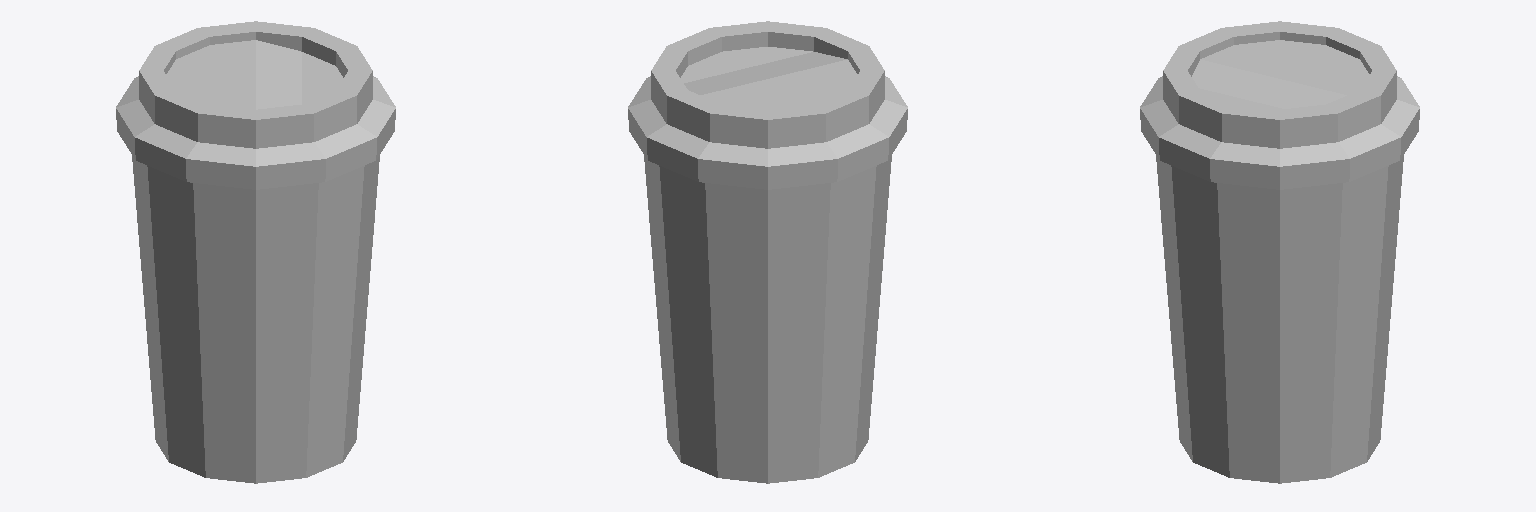
The model's file is Vaso.obj.
3 renders of one model, left to right at view 1: azimuth 30°, elevation 25°; view 2: azimuth 150°, elevation 25°; view 3: azimuth 270°, elevation 25°, orthographic.
Visible parts, largest first — view 1: hypercasual_prop014; view 2: hypercasual_prop014; view 3: hypercasual_prop014.
Part boxes in pixels (x1,y1,x2,y2): hypercasual_prop014: (116,21,395,483); hypercasual_prop014: (628,21,907,483); hypercasual_prop014: (1140,21,1419,483).
Bounding box in the file's own units: 0.7107 × 1.04 × 0.7107.